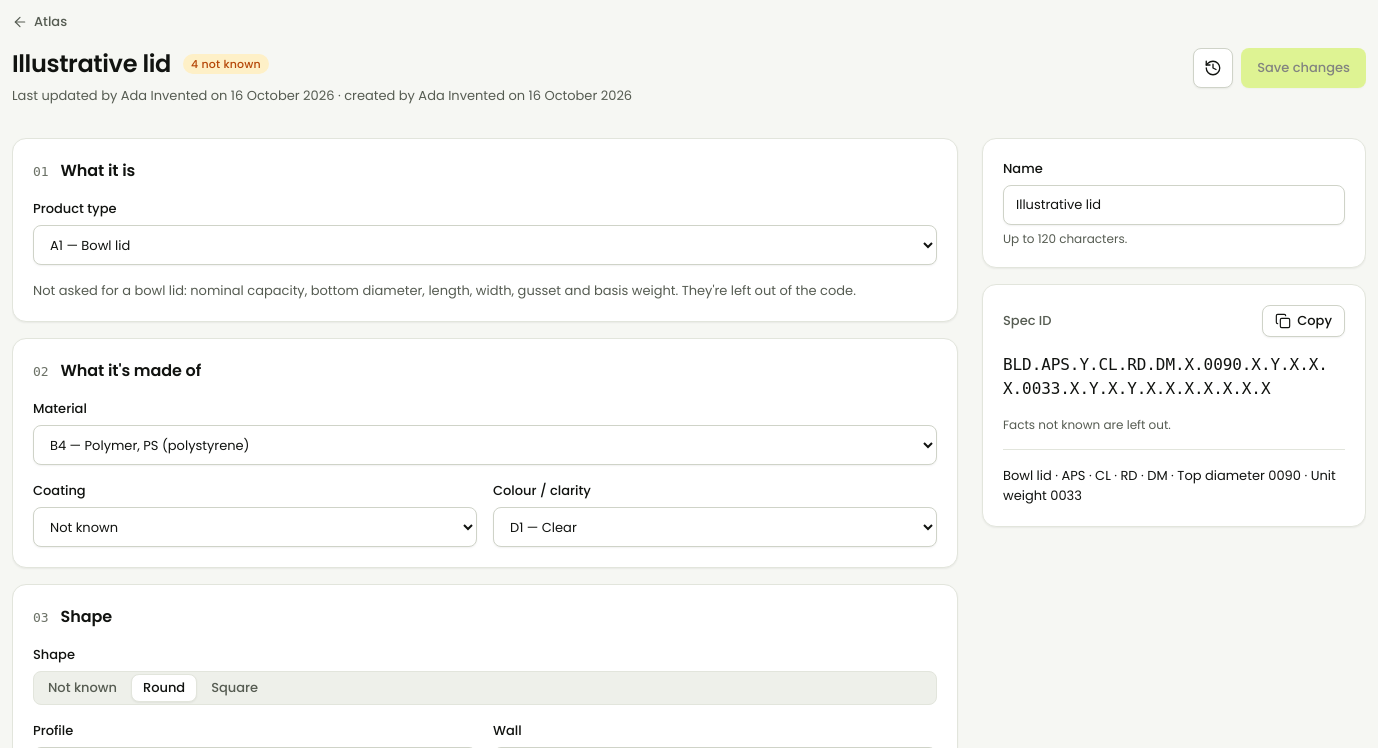
SpecIdEditor, Save changes › is done as soon as the save is, without waiting for the history and lookups to be asked again
Replace the text in the field labelled "Name" with "Big lid" at (1174, 205), box left=1003, top=185, right=1345, bottom=225
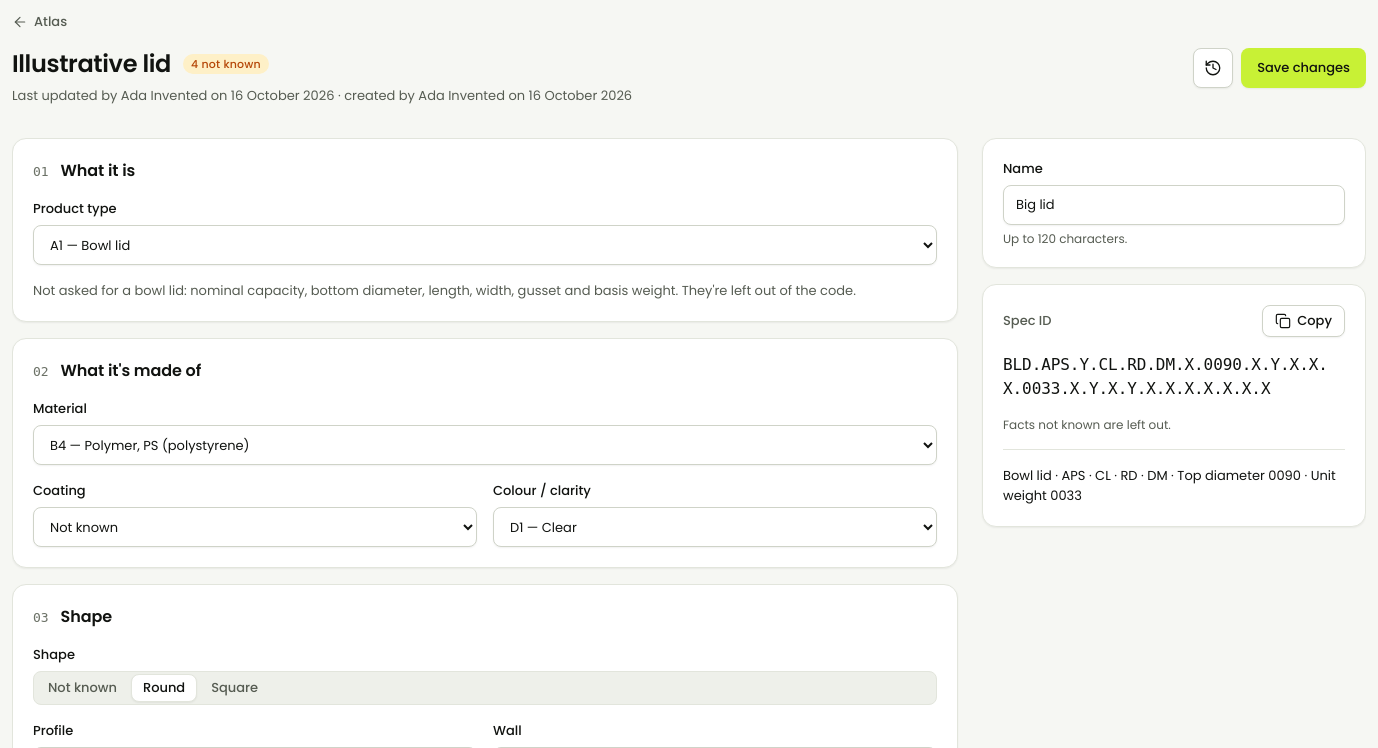
Click the button "Save changes" at (1304, 68), box left=1241, top=48, right=1366, bottom=88
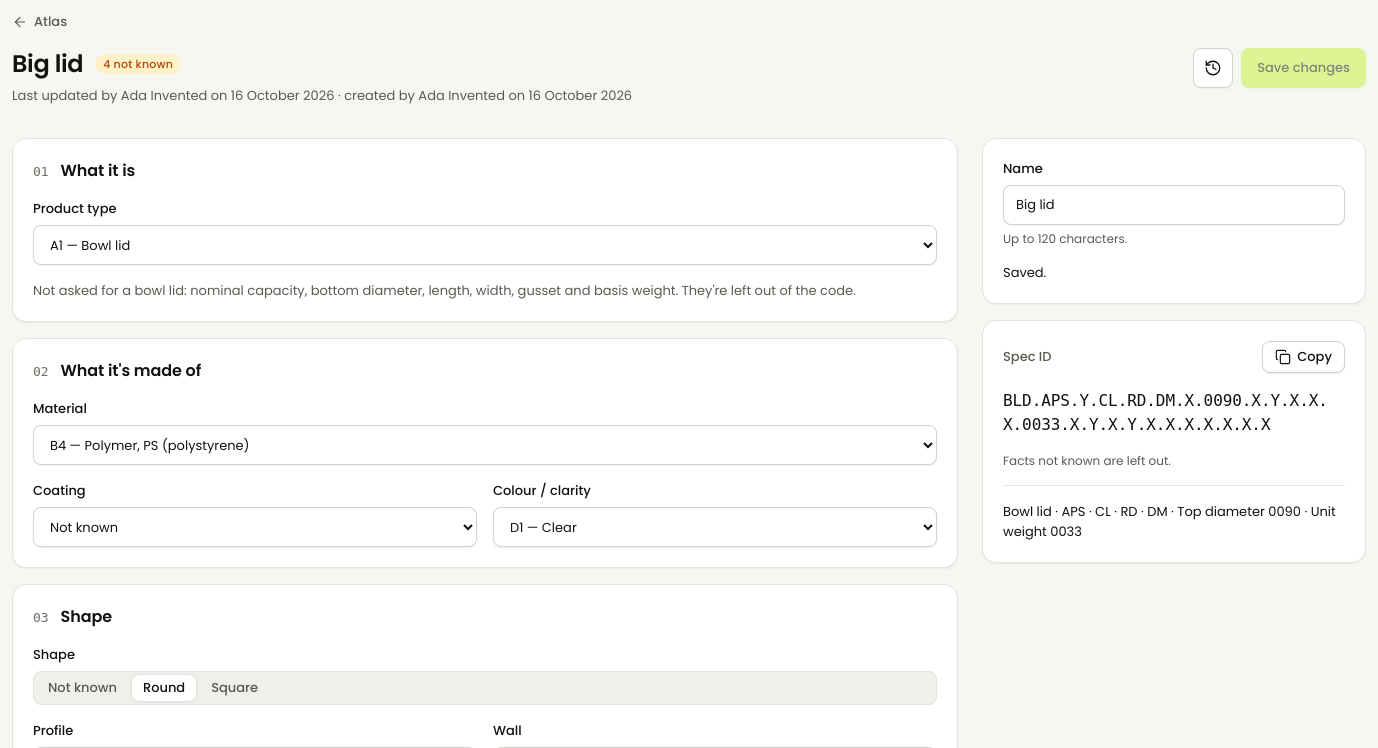
Check: the text "Saved." is shown, box left=1003, top=263, right=1046, bottom=282
